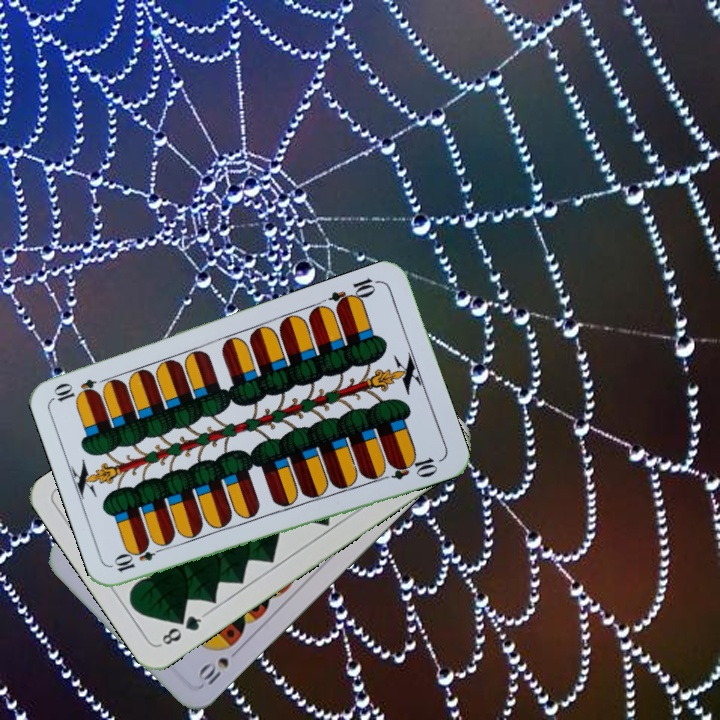E10: (325, 274, 382, 313), (110, 541, 168, 575)
G8: (156, 609, 208, 648)
S10: (194, 643, 244, 689)
